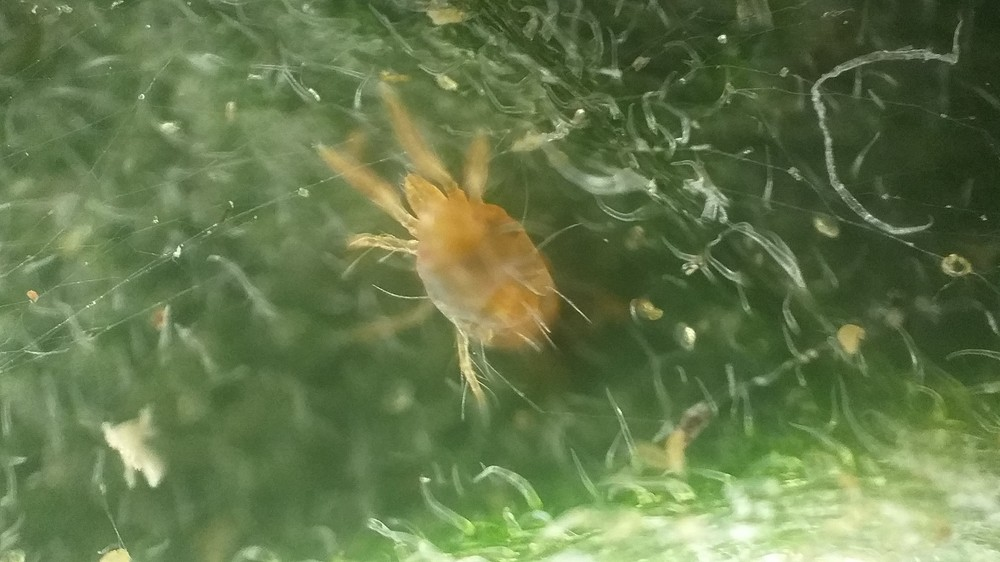Aracnido Rojo: (294, 86, 636, 411)
